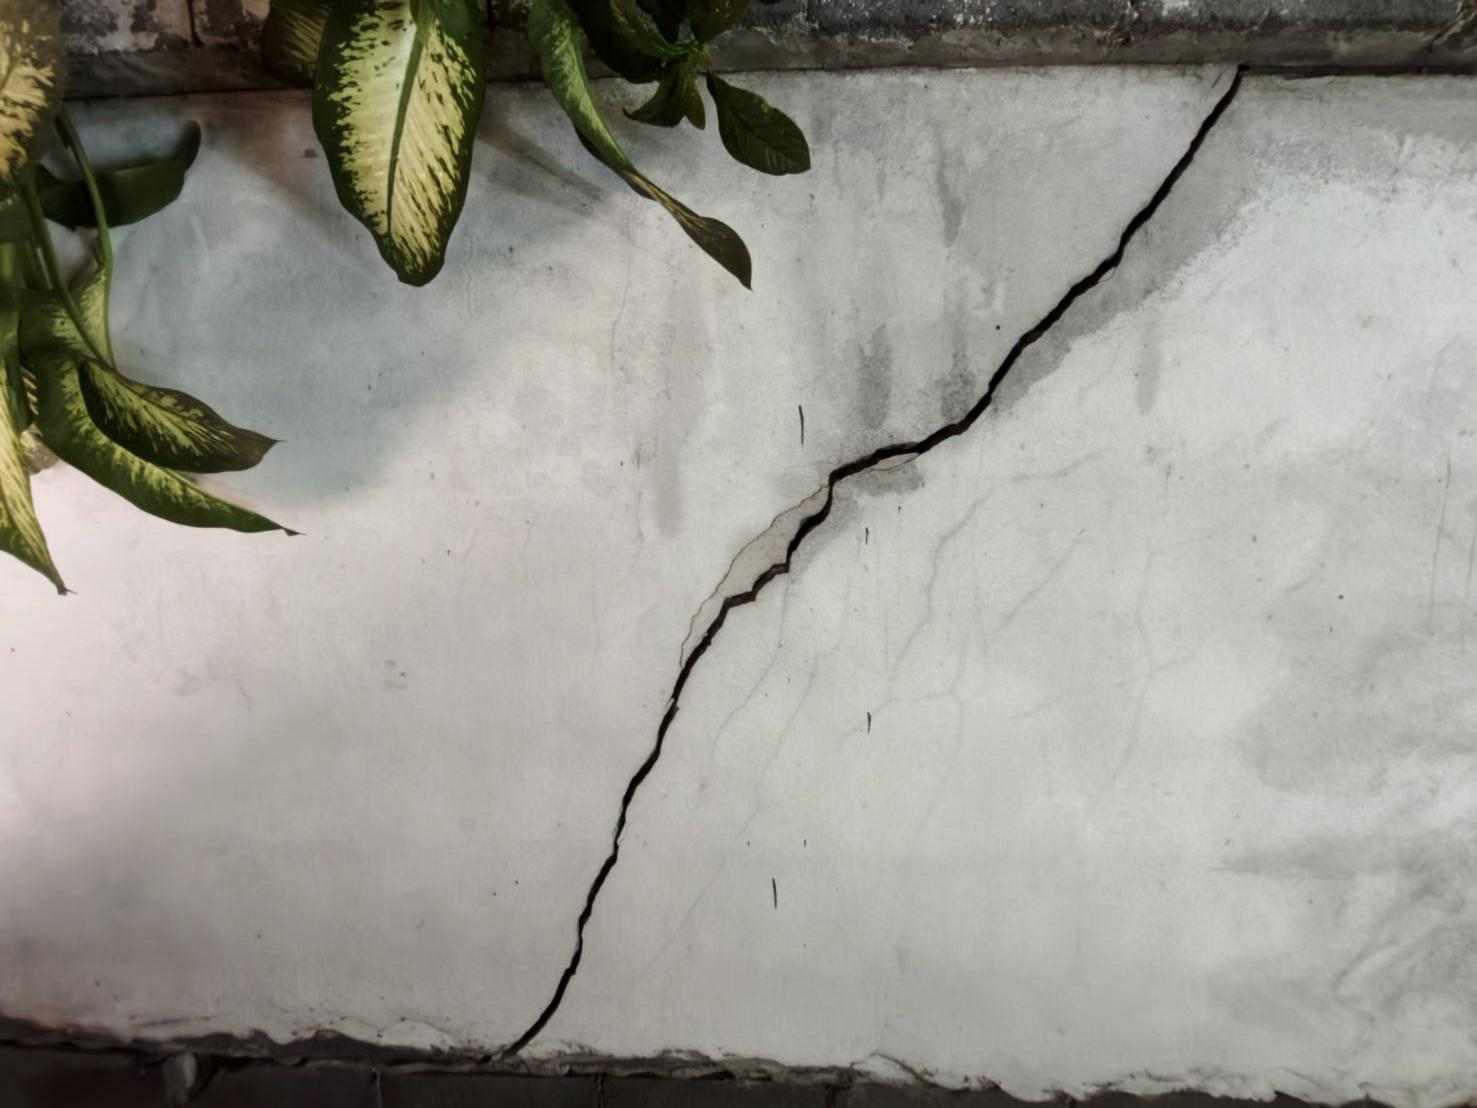High: (473, 84, 1261, 1073)
